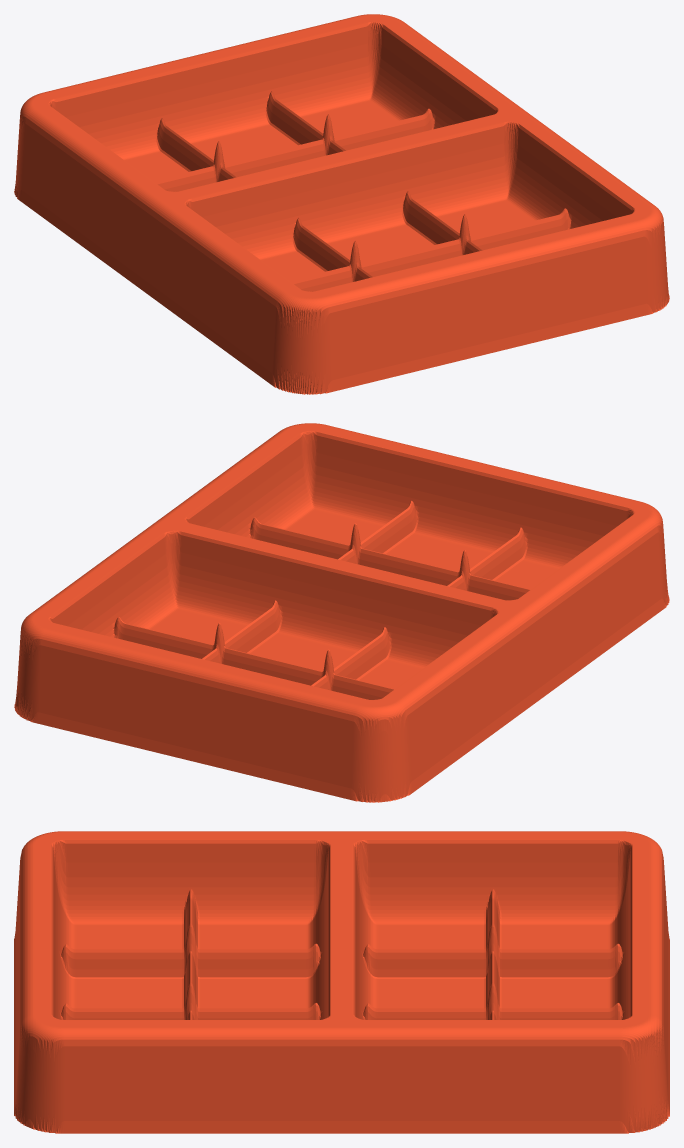
The model's file is mold.glb.
3 renders of one model, top to bottom at view 1: azimuth 30°, elevation 25°; view 2: azimuth 150°, elevation 25°; view 3: azimuth 270°, elevation 25°, orthographic. The views are drawn at different scales.
Parts seen in each view (by area): view 1: geometry_0; view 2: geometry_0; view 3: geometry_0.
Boxes of the visible parts, x1,y1,x2,y2 form: geometry_0: [14, 14, 669, 394]; geometry_0: [14, 423, 669, 802]; geometry_0: [14, 831, 669, 1133].
Bounding box in the file's own units: 0.0908 × 0.0195 × 0.1186.
